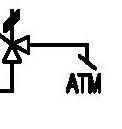psv: (1, 8, 31, 64)
